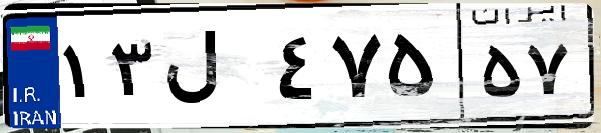1: (57, 26, 110, 100)
3: (110, 28, 158, 98)
4: (270, 28, 330, 110)
5: (385, 28, 445, 110), (475, 38, 525, 113)
7: (330, 28, 385, 110), (525, 38, 570, 115)
ل: (158, 20, 270, 120)
